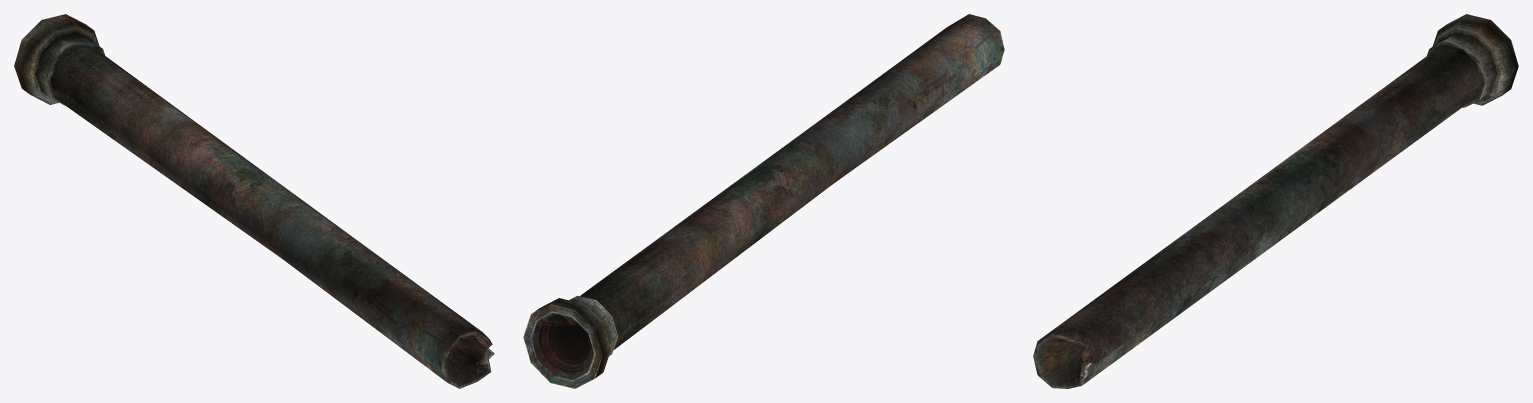
The model's file is pipe_broken_medium.dae.
The picture shows the model from 3 angles, left to right: view 1: azimuth 30°, elevation 25°; view 2: azimuth 150°, elevation 25°; view 3: azimuth 330°, elevation 25°; orthographic projection.
Parts seen in each view (by area): view 1: pipe_broken_medium; view 2: pipe_broken_medium; view 3: pipe_broken_medium.
Boxes of the visible parts, <box> form: pipe_broken_medium: <box>14,14,494,388</box>; pipe_broken_medium: <box>523,14,1004,388</box>; pipe_broken_medium: <box>1033,14,1518,388</box>.
Size of the model in its own units: 0.2663 by 0.2533 by 2.42.
